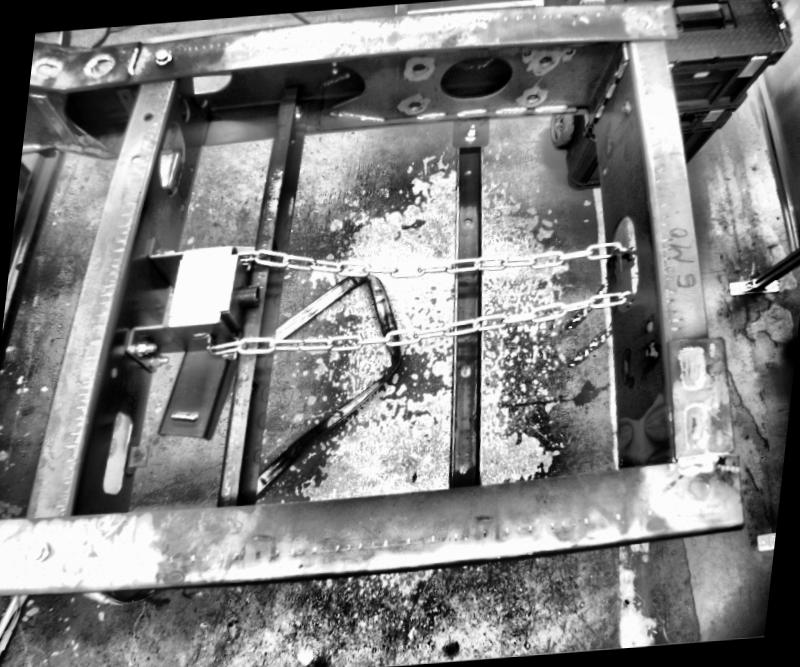bolt: (148, 40, 176, 68), (132, 337, 158, 355), (641, 340, 662, 362), (146, 352, 168, 368), (288, 101, 308, 118), (463, 118, 477, 140), (156, 242, 175, 257), (622, 100, 632, 114)
bracket: (602, 240, 628, 290), (123, 440, 150, 473)
hole: (433, 50, 517, 102), (97, 401, 132, 500), (154, 118, 187, 202), (181, 63, 238, 96), (406, 58, 428, 75), (406, 96, 422, 111), (536, 54, 552, 68), (459, 362, 472, 376), (460, 214, 472, 228), (526, 89, 540, 101), (108, 363, 119, 377), (128, 152, 140, 164), (458, 462, 470, 474), (644, 318, 656, 330), (142, 108, 153, 119), (132, 450, 142, 458), (463, 167, 472, 175)
welding: (590, 100, 606, 116), (614, 57, 628, 75), (602, 83, 616, 96)
